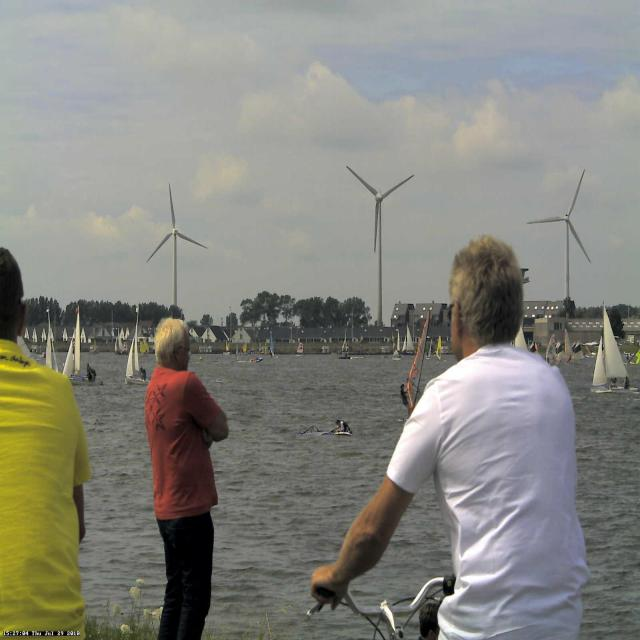other: (0, 336, 97, 631), (125, 354, 242, 512)
